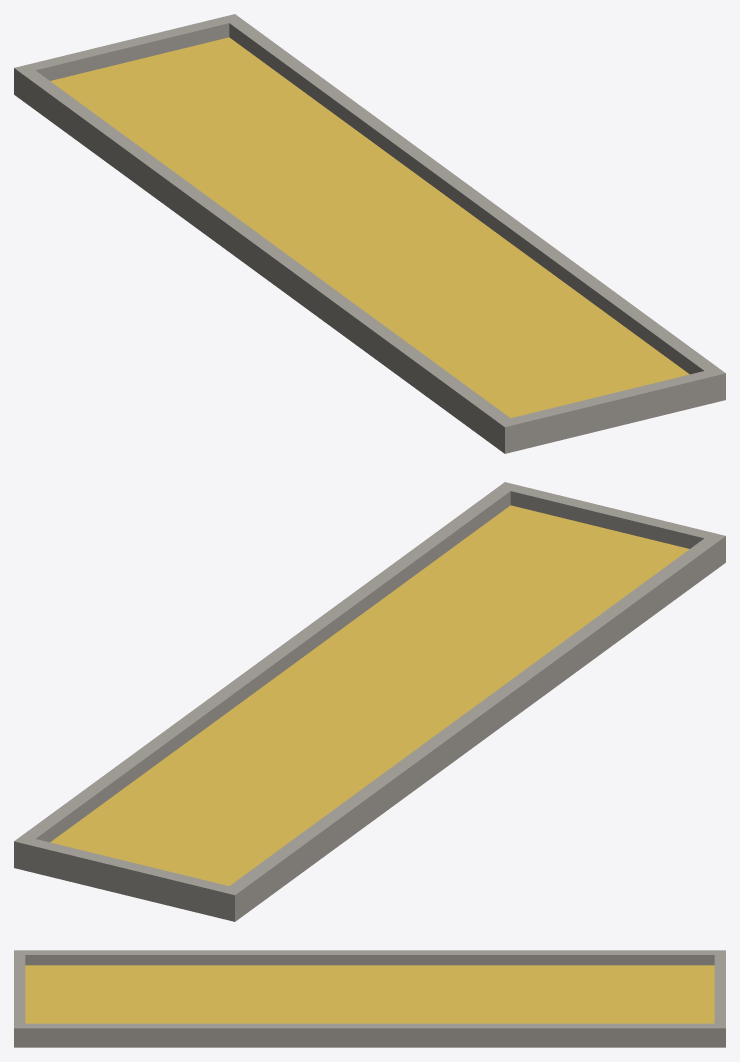
File: glue_tray.glb
3 views of the same model, one above another, from view 1: azimuth 30°, elevation 25°; view 2: azimuth 150°, elevation 25°; view 3: azimuth 270°, elevation 25° (orthographic). The views are drawn at different scales.
Visible parts, largest first — view 1: GlueTray; view 2: GlueTray; view 3: GlueTray.
Boxes of the visible parts, x1,y1,x2,y2 form: GlueTray: (14,14,725,453); GlueTray: (14,482,725,921); GlueTray: (14,950,725,1047).
Bounding box in the file's own units: 0.26 × 0.03 × 1.
